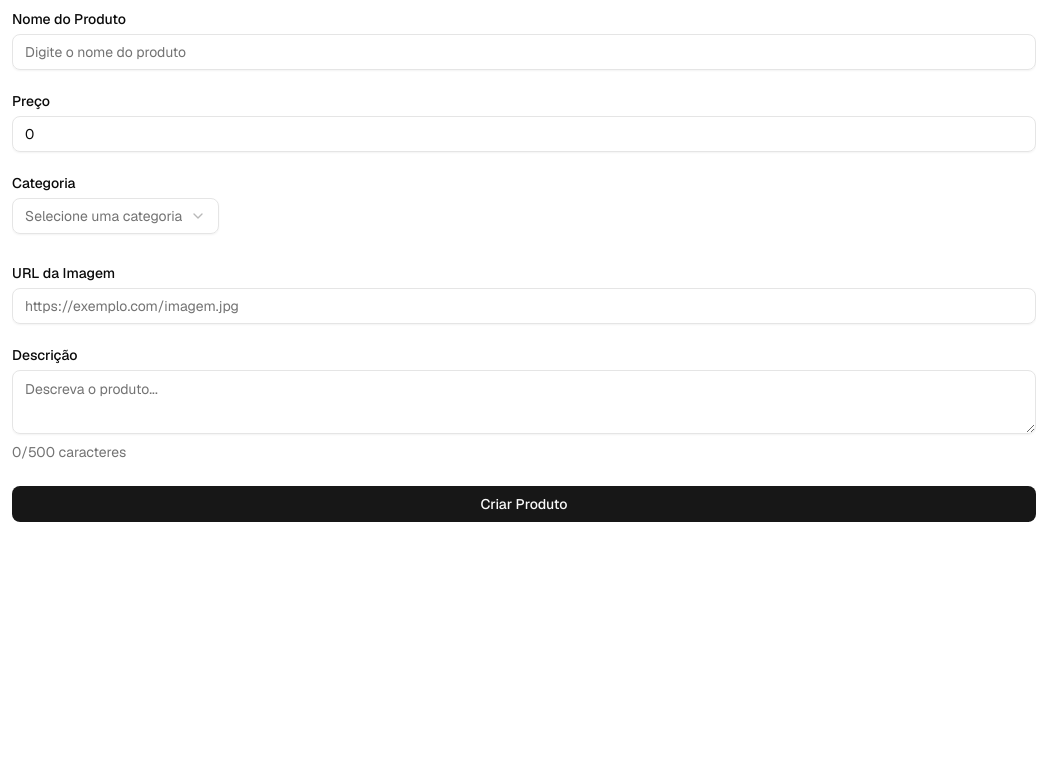
deve mostrar mensagens de erro ao enviar o fomulário vazio
The image size is (1048, 780).
Click the button "Criar Produto". click: (524, 504)
box: [12,486,1036,522]
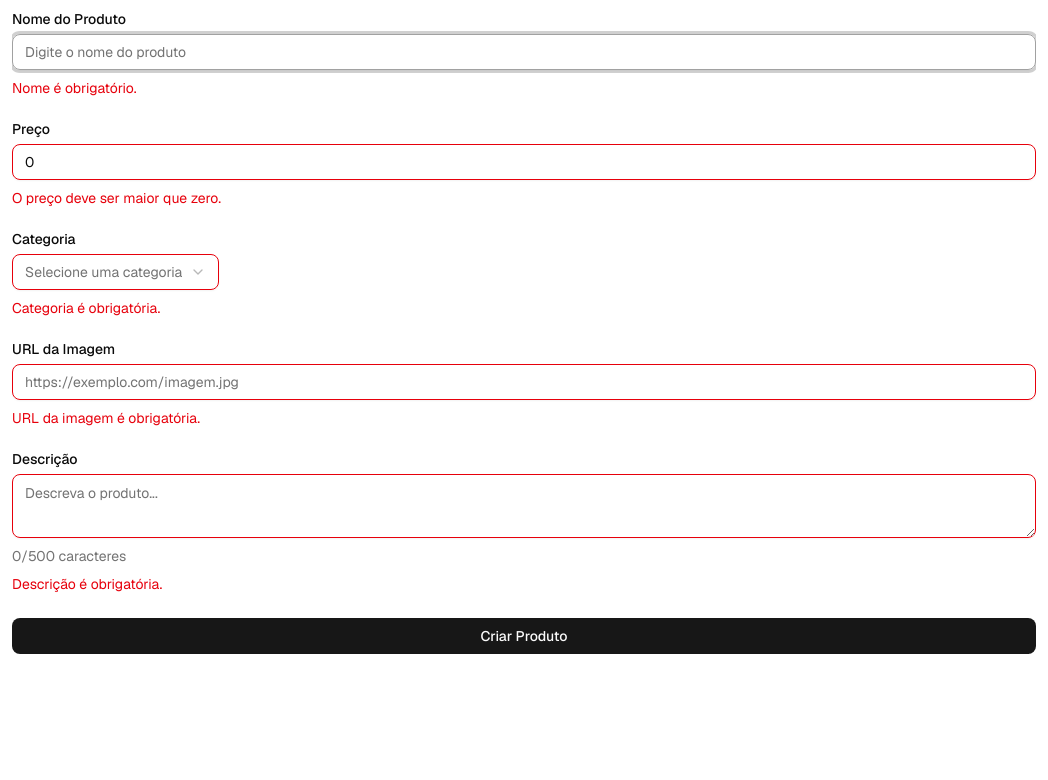
Result: the text "Nome é obrigatório." is shown at [12,79,137,97]
Result: the text "O preço deve ser maior que zero." is shown at [12,189,221,207]
Result: the text "Categoria é obrigatória." is shown at [12,299,160,317]
